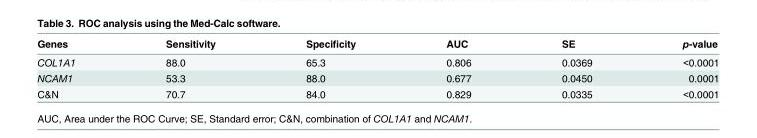table: (36, 36, 718, 99)
table column: (119, 36, 260, 99), (260, 36, 400, 99), (515, 36, 636, 99), (400, 36, 515, 99), (36, 36, 119, 99), (636, 36, 718, 99)
table column header: (36, 36, 718, 52)
table row: (36, 52, 718, 69), (36, 36, 718, 52), (36, 69, 718, 85), (36, 85, 718, 99)
